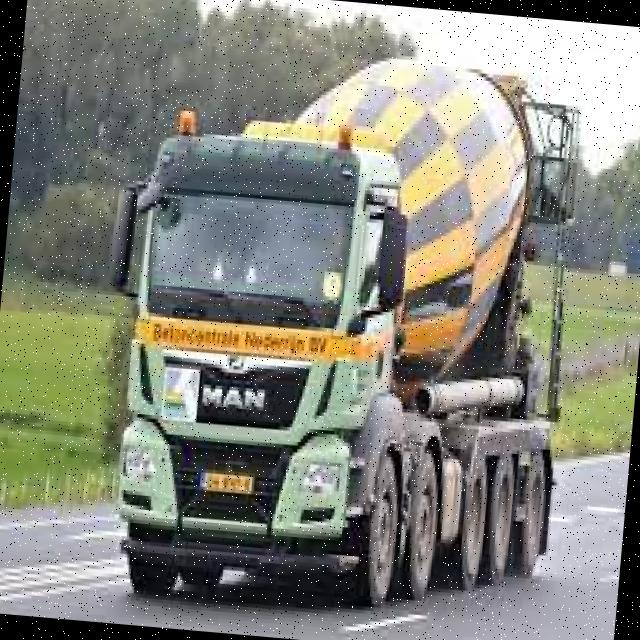Mixer Truck: (74, 27, 598, 633)
